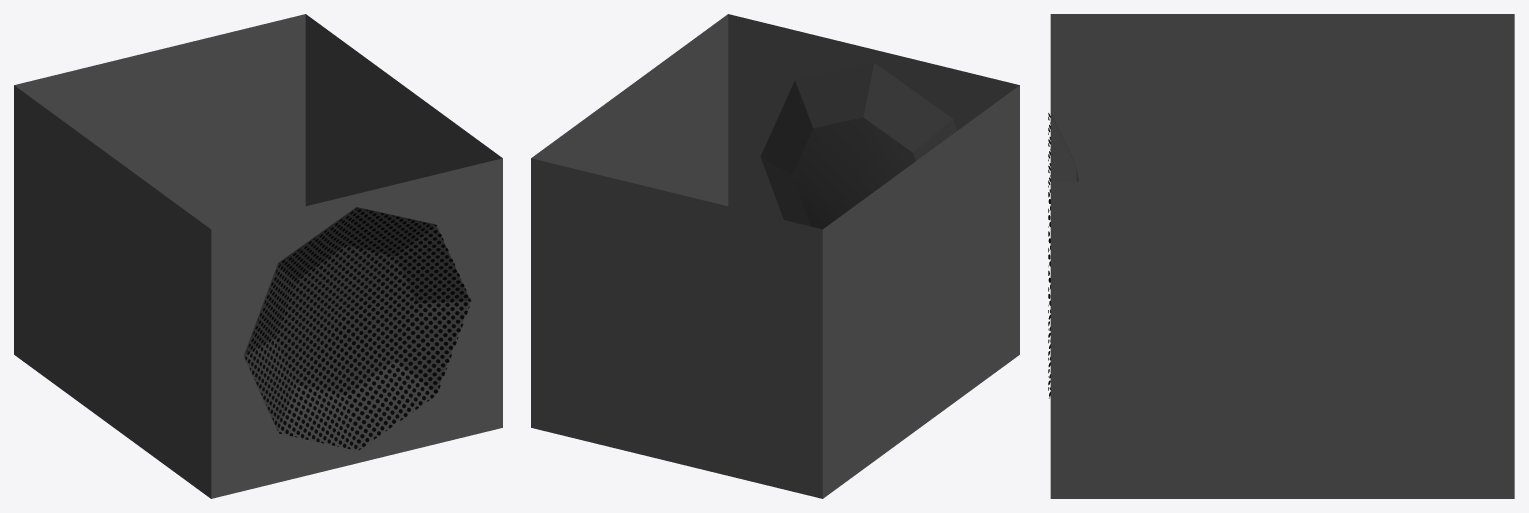
File: Itr_Obj_Speaker1_Base_03.FBX
The picture shows the model from 3 angles, left to right: view 1: azimuth 30°, elevation 25°; view 2: azimuth 150°, elevation 25°; view 3: azimuth 270°, elevation 25°; orthographic projection. The views are drawn at different scales.
Parts seen in each view (by area): view 1: Itr_Obj_Speaker1_Base_03; view 2: Itr_Obj_Speaker1_Base_03; view 3: Itr_Obj_Speaker1_Base_03.
Boxes of the visible parts, x1=… form: Itr_Obj_Speaker1_Base_03: x1=14, y1=14, x2=502, y2=498; Itr_Obj_Speaker1_Base_03: x1=531, y1=14, x2=1019, y2=498; Itr_Obj_Speaker1_Base_03: x1=1048, y1=14, x2=1514, y2=498.
Bounding box in the file's own units: 9.88 × 8.72 × 11.62.
